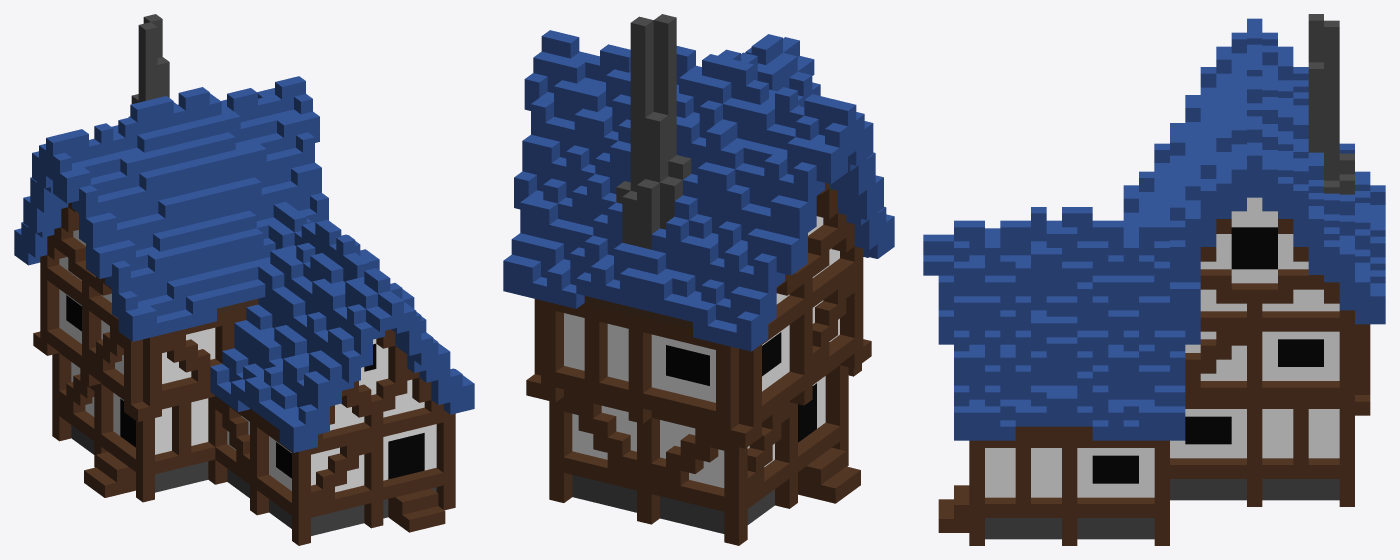
Rendered from house06.fbx.
The picture shows the model from 3 angles, left to right: view 1: azimuth 30°, elevation 25°; view 2: azimuth 150°, elevation 25°; view 3: azimuth 270°, elevation 25°; orthographic projection. The views are drawn at different scales.
Parts seen in each view (by area): view 1: house1-10; view 2: house1-10; view 3: house1-10.
Boxes of the visible parts, bbox=[...] form: house1-10: bbox=[14, 14, 474, 545]; house1-10: bbox=[503, 14, 894, 545]; house1-10: bbox=[923, 14, 1385, 545].
Bounding box in the file's own units: 2400 × 3200 × 3000.
